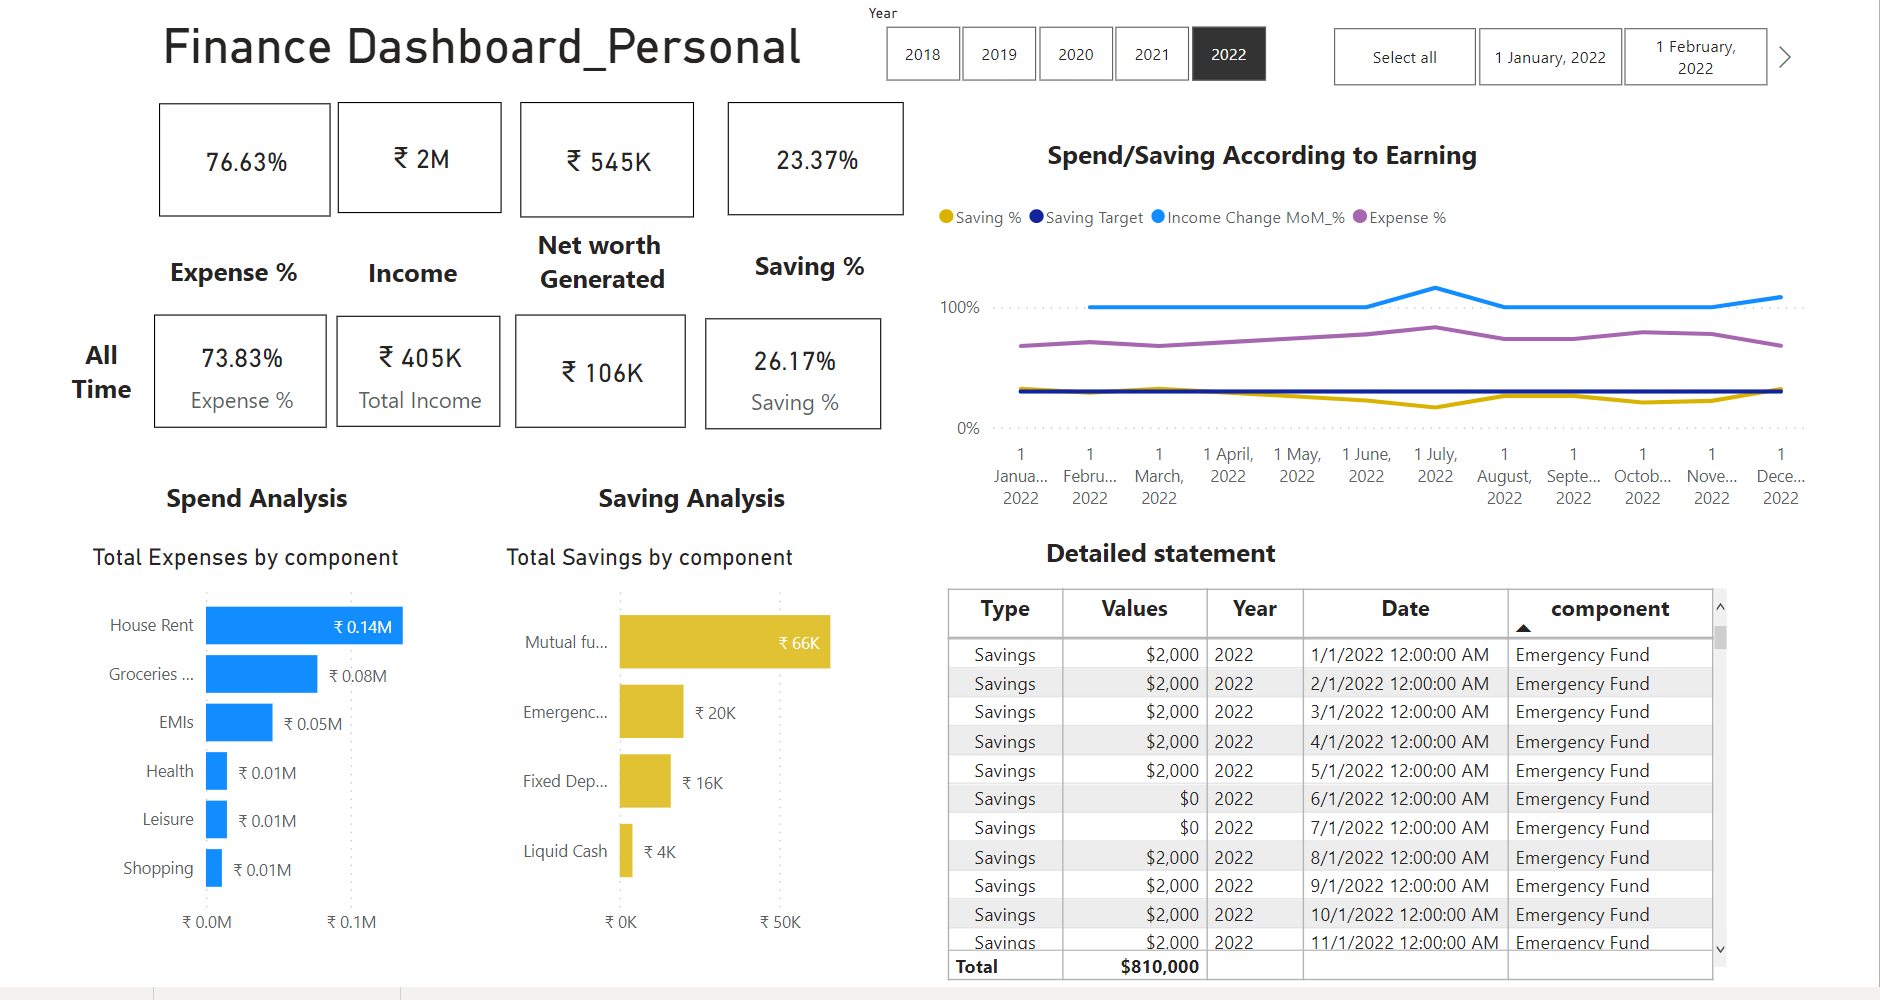

This screenshot's page, from the dashboard's own definition file:
{"tool":"powerbi","page":{"name":"Finance_dashboard","canvas":[1280,720],"ordinal":0},"visuals":[{"type":"card","fields":{"Values":["key_measures.Expense %"]},"box":[72.8,77.5,125,82.4],"z":0},{"type":"card","fields":{"Values":["key_measures.Total Income"]},"box":[202.6,76,119.4,80.8],"z":1000},{"type":"card","fields":{"Values":["key_measures.Total Savings"]},"box":[335.7,76.5,126.4,83.8],"z":2000},{"type":"card","fields":{"Values":["key_measures.Saving %"]},"box":[486.8,76.5,127.7,82.4],"z":3000},{"type":"textbox","box":[202.5,182.5,108.8,37.5],"z":4000},{"type":"textbox","box":[322,161.6,147.1,69.9],"z":5000},{"type":"textbox","box":[63.9,182.1,126.6,37.4],"z":6000},{"type":"textbox","box":[477.5,177.5,137.5,37.5],"z":7000},{"type":"slicer","fields":{"Values":["Personal_Finance2.Year"]},"box":[575,0,326.2,67.5],"z":8000},{"type":"slicer","fields":{"Values":["Personal_Finance2.Date"]},"box":[900.9,15.7,365.4,51.9],"z":9000},{"type":"card","fields":{"Values":["key_measures.Expense %"]},"box":[69,231,125.4,82],"z":10000},{"type":"card","fields":{"Values":["key_measures.Total Income"]},"box":[201.6,232.2,119.4,80.8],"z":11000},{"type":"card","fields":{"Values":["key_measures.Total Savings"]},"box":[331.9,231,124.2,82],"z":12000},{"type":"card","fields":{"Values":["key_measures.Saving %"]},"box":[470,234,127.8,80.8],"z":13000},{"type":"textbox","box":[1.4,241.7,63.2,75.5],"z":14000},{"type":"card","fields":{"Values":["key_measures.Title"]},"box":[41.2,5,533.8,53.8],"z":15000},{"type":"clusteredBarChart","fields":{"Category":["Personal_Finance2.component"],"Y":["key_measures.Total Expenses"]},"box":[19.2,396.9,298,293.9],"z":16000},{"type":"textbox","box":[1.2,346.1,285.8,39.8],"z":17000},{"type":"clusteredBarChart","fields":{"Category":["Personal_Finance2.component"],"Y":["key_measures.Total Savings"]},"box":[320,396.9,298,293.9],"z":18000},{"type":"textbox","box":[317.2,346.1,285.8,39.8],"z":19000},{"type":"lineChart","fields":{"Y":["key_measures.Saving %","key_measures.Saving Target","key_measures.Income Change MoM_%","key_measures.Expense %"],"Category":["Personal_Finance2.Date"]},"box":[634.5,140.1,645.5,240.3],"z":20000},{"type":"textbox","box":[648.8,96.5,452.3,39.8],"z":21000},{"type":"tableEx","fields":{"Values":["Type.Type","key_measures.Values","Personal_Finance2.Year","LocalDateTable_f6307979-4385-4aca-aaff-fd94b971375c.Date","Personal_Finance2.component"]},"box":[640.4,425.7,577.7,294.3],"z":22000},{"type":"textbox","box":[673.8,386.2,255,40],"z":23000}]}

Visuals, with their boxes on the page's 1280x720 design canvas (x1, y1, x2, y2). These are canvas units, not pixel positions in the 1880x1000 screenshot, which may show the page scaled, cropped or inside an application window:
card - key_measures.Expense %: {"x1": 73, "y1": 78, "x2": 198, "y2": 160}
card - key_measures.Total Income: {"x1": 203, "y1": 76, "x2": 322, "y2": 157}
card - key_measures.Total Savings: {"x1": 336, "y1": 76, "x2": 462, "y2": 160}
card - key_measures.Saving %: {"x1": 487, "y1": 76, "x2": 614, "y2": 159}
textbox: {"x1": 202, "y1": 182, "x2": 311, "y2": 220}
textbox: {"x1": 322, "y1": 162, "x2": 469, "y2": 232}
textbox: {"x1": 64, "y1": 182, "x2": 190, "y2": 220}
textbox: {"x1": 478, "y1": 178, "x2": 615, "y2": 215}
slicer - Personal_Finance2.Year: {"x1": 575, "y1": 0, "x2": 901, "y2": 68}
slicer - Personal_Finance2.Date: {"x1": 901, "y1": 16, "x2": 1266, "y2": 68}
card - key_measures.Expense %: {"x1": 69, "y1": 231, "x2": 194, "y2": 313}
card - key_measures.Total Income: {"x1": 202, "y1": 232, "x2": 321, "y2": 313}
card - key_measures.Total Savings: {"x1": 332, "y1": 231, "x2": 456, "y2": 313}
card - key_measures.Saving %: {"x1": 470, "y1": 234, "x2": 598, "y2": 315}
textbox: {"x1": 1, "y1": 242, "x2": 65, "y2": 317}
card - key_measures.Title: {"x1": 41, "y1": 5, "x2": 575, "y2": 59}
clusteredBarChart - Personal_Finance2.component x key_measures.Total Expenses: {"x1": 19, "y1": 397, "x2": 317, "y2": 691}
textbox: {"x1": 1, "y1": 346, "x2": 287, "y2": 386}
clusteredBarChart - Personal_Finance2.component x key_measures.Total Savings: {"x1": 320, "y1": 397, "x2": 618, "y2": 691}
textbox: {"x1": 317, "y1": 346, "x2": 603, "y2": 386}
lineChart - key_measures.Saving % x key_measures.Saving Target: {"x1": 634, "y1": 140, "x2": 1280, "y2": 380}
textbox: {"x1": 649, "y1": 96, "x2": 1101, "y2": 136}
tableEx - Type.Type x key_measures.Values: {"x1": 640, "y1": 426, "x2": 1218, "y2": 720}
textbox: {"x1": 674, "y1": 386, "x2": 929, "y2": 426}
